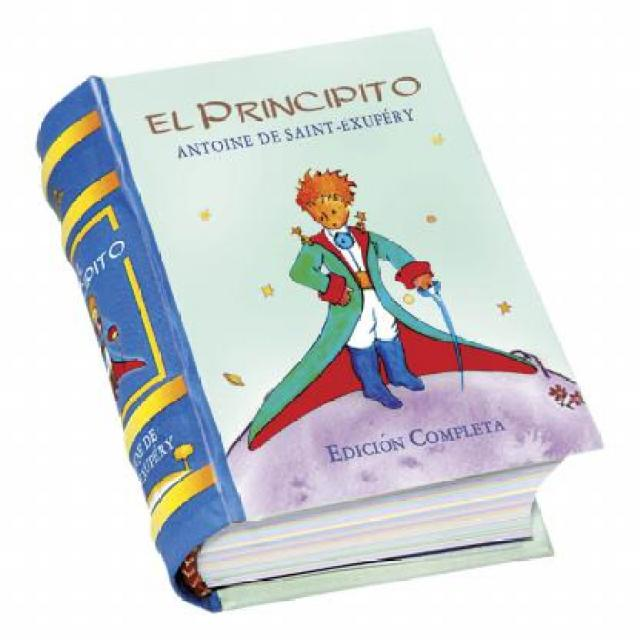book: (31, 34, 599, 618)
